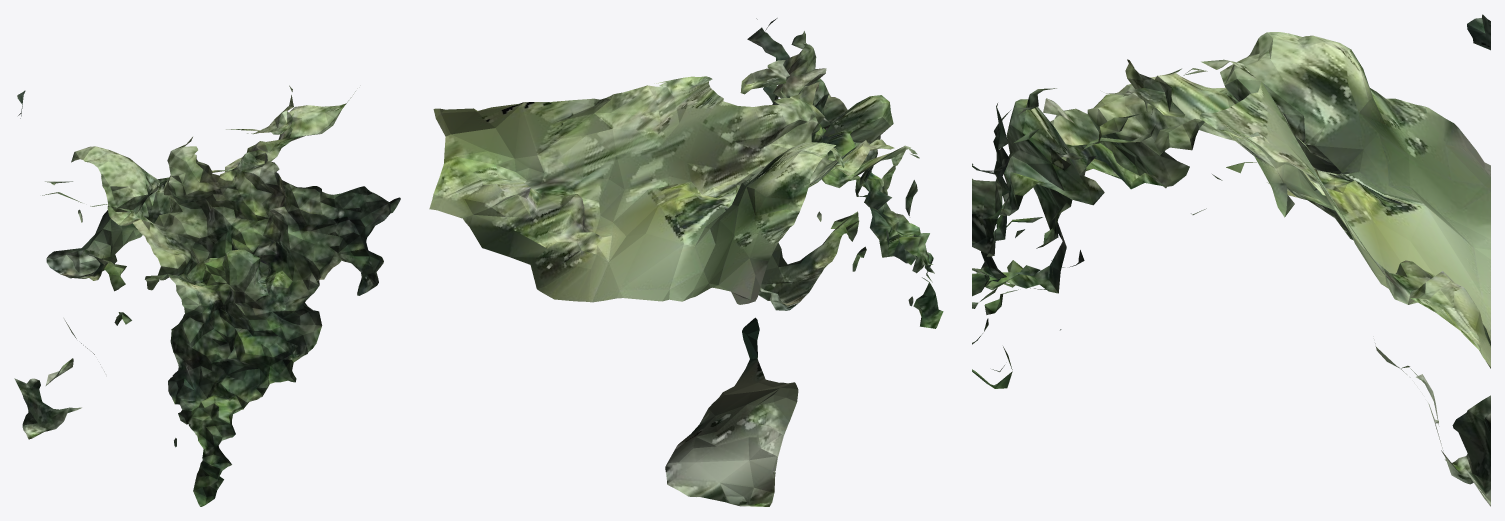
3 renders of one model, left to right at view 1: azimuth 30°, elevation 25°; view 2: azimuth 150°, elevation 25°; view 3: azimuth 270°, elevation 25°, orthographic. The views are drawn at different scales.
Bounding box in the file's own units: 26.11 × 24.94 × 26.11.
Materials: 4 (4 with a texture image).
